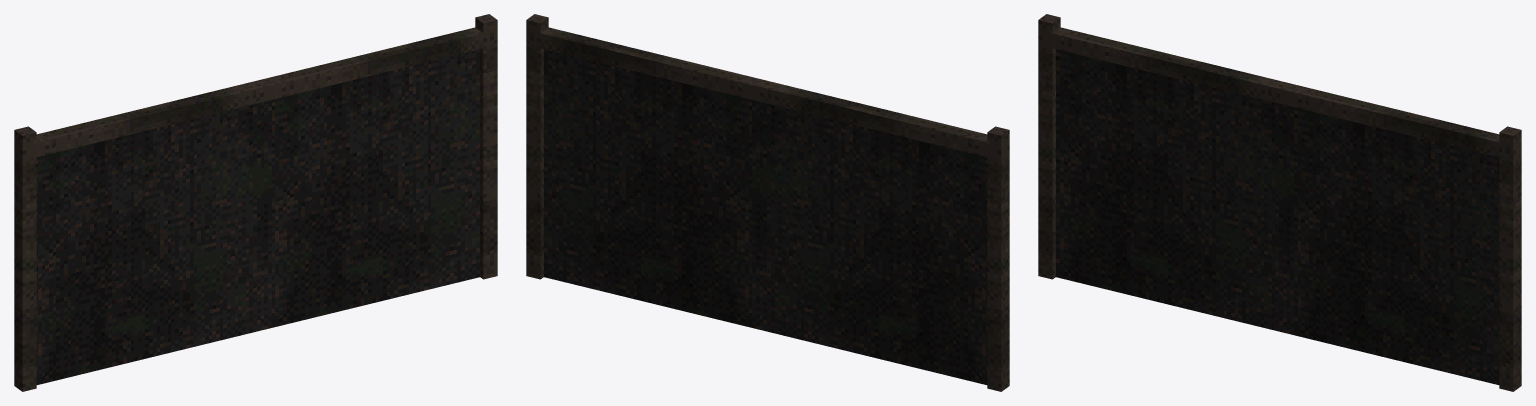
Rendered from stair_rail.gltf.
3 renders of one model, left to right at view 1: azimuth 30°, elevation 25°; view 2: azimuth 150°, elevation 25°; view 3: azimuth 330°, elevation 25°, orthographic.
Visible parts, largest first — view 1: stair_rail; view 2: stair_rail; view 3: stair_rail.
Boxes of the visible parts, <box> form: stair_rail: <box>14,14,497,391</box>; stair_rail: <box>526,14,1009,391</box>; stair_rail: <box>1038,14,1521,391</box>.
Size of what is drawn, in the model's own units: 2 by 1.03 by 0.06.
Materials: 2 (2 with a texture image).
